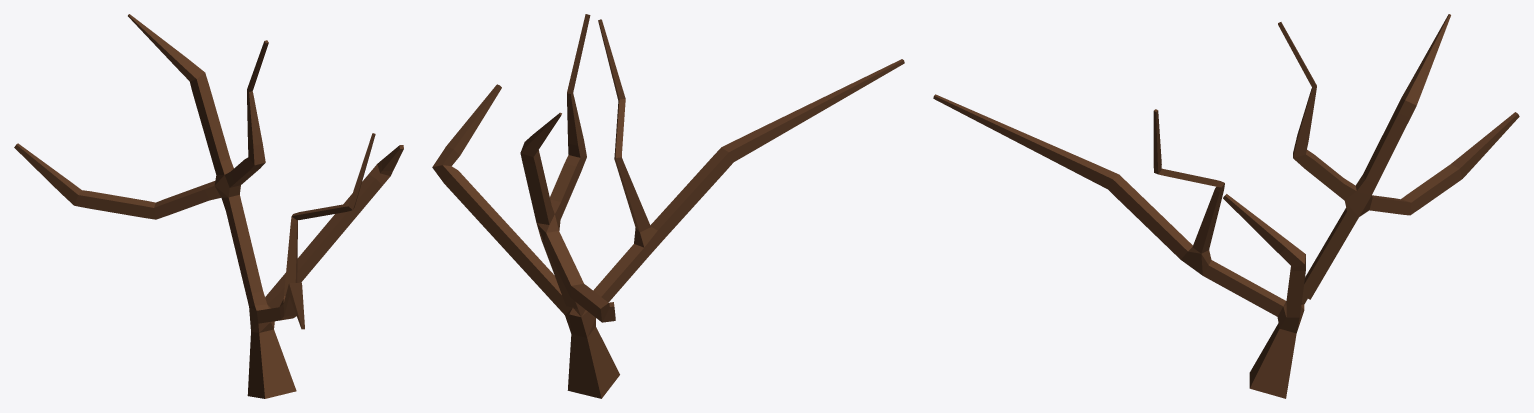
File: bush1_trunk.fbx
3 views of the same model, side by side, from view 1: azimuth 30°, elevation 25°; view 2: azimuth 150°, elevation 25°; view 3: azimuth 270°, elevation 25° (orthographic). The views are drawn at different scales.
Parts seen in each view (by area): view 1: Circle; view 2: Circle; view 3: Circle.
Boxes of the visible parts, x1,y1,x2,y2 form: Circle: (14, 14, 403, 398); Circle: (432, 14, 904, 398); Circle: (933, 14, 1519, 398).
Size of the model in its own units: 72.65 by 90.24 by 130.
